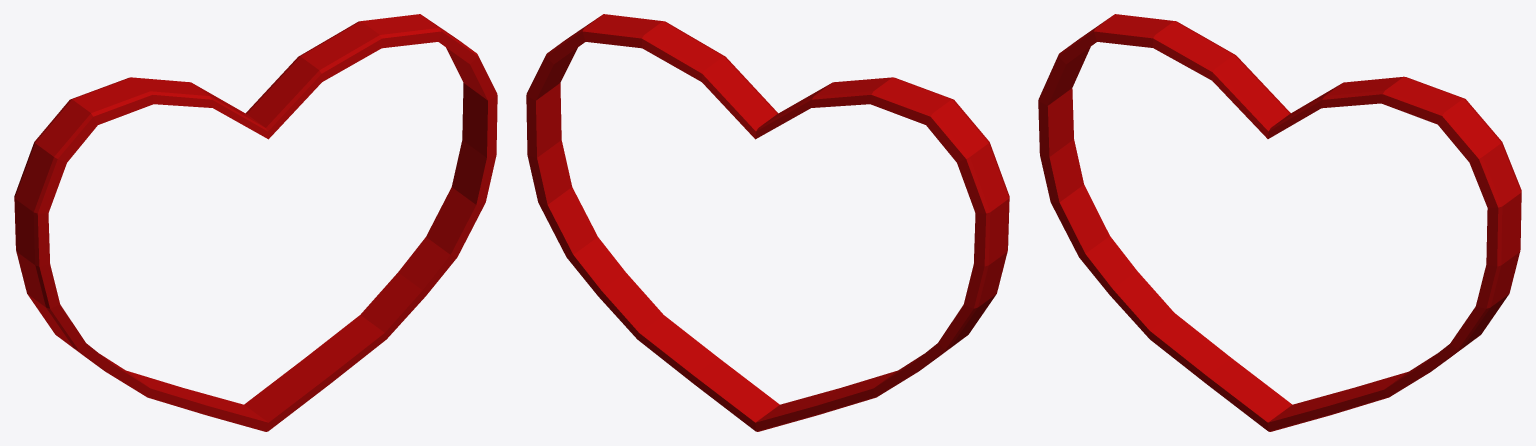
Rendered from heart.02.glb.
3 renders of one model, left to right at view 1: azimuth 30°, elevation 25°; view 2: azimuth 150°, elevation 25°; view 3: azimuth 330°, elevation 25°, orthographic.
Visible parts, largest first — view 1: Plane.134; view 2: Plane.134; view 3: Plane.134.
Part boxes in pixels (box(x1,y1,x2,y2)): Plane.134: box(14, 14, 497, 431); Plane.134: box(526, 14, 1009, 431); Plane.134: box(1038, 14, 1521, 431).
Bounding box in the file's own units: 0.3505 × 0.2667 × 0.0323.
1 material, 1 textured.
